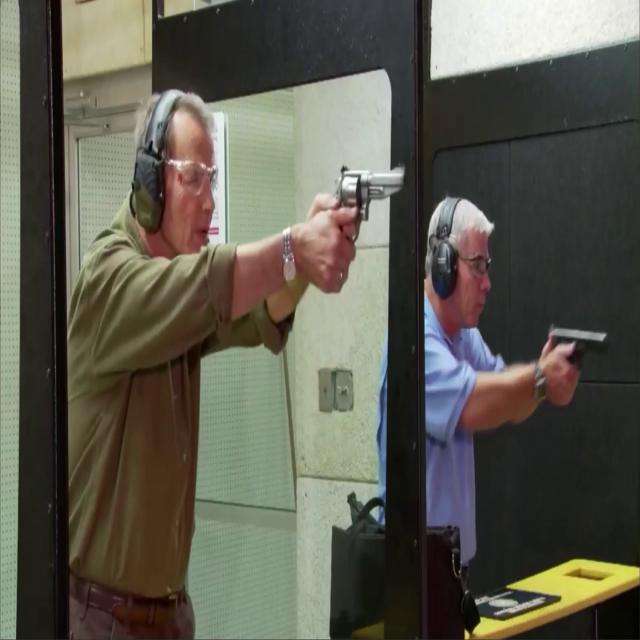Gun: (331, 162, 406, 248), (548, 324, 608, 376)
